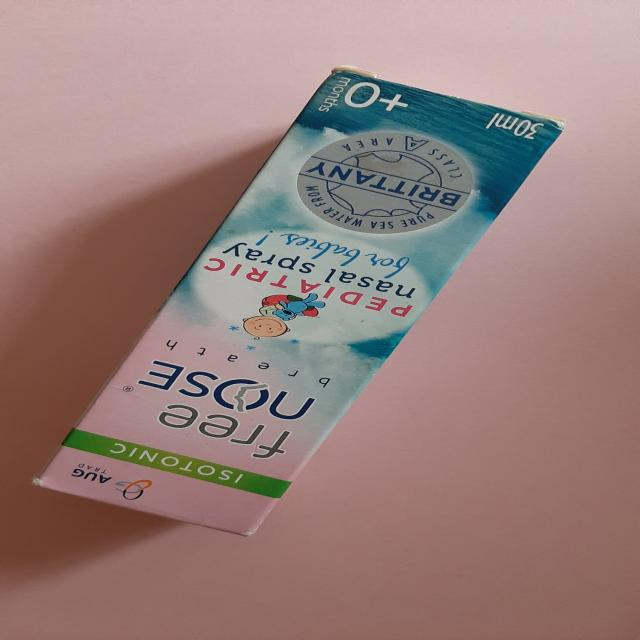Free Nose: (41, 64, 568, 552)
